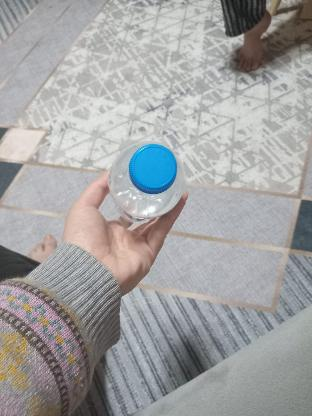Plastic Bottle: (95, 138, 195, 222)
